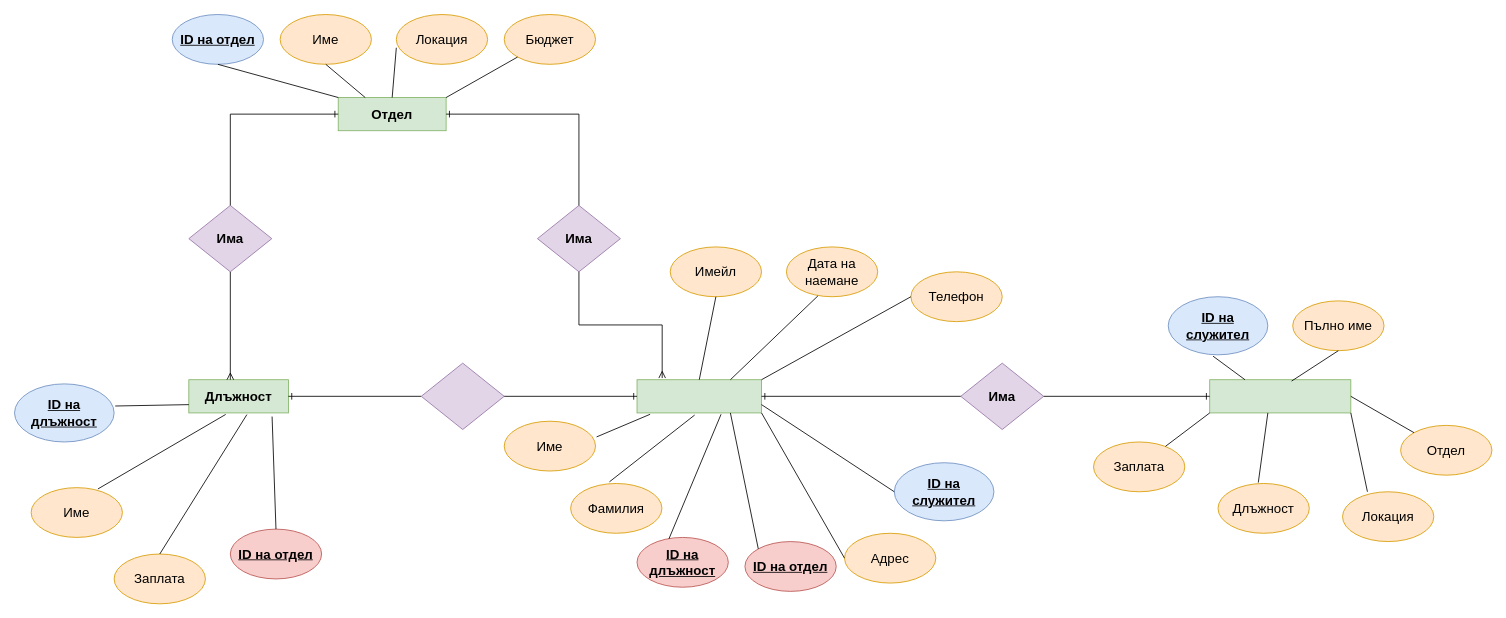
Image size: 1506x618. Some labels were removed from this diagram. The shapes that lost their labels are listed below. From the top down, each one's centre as x and y in pixels, then its label:
At (x=462, y=396): "Заема".
At (x=699, y=396): "Служител".
At (x=1280, y=396): "Детайли за служителите".
